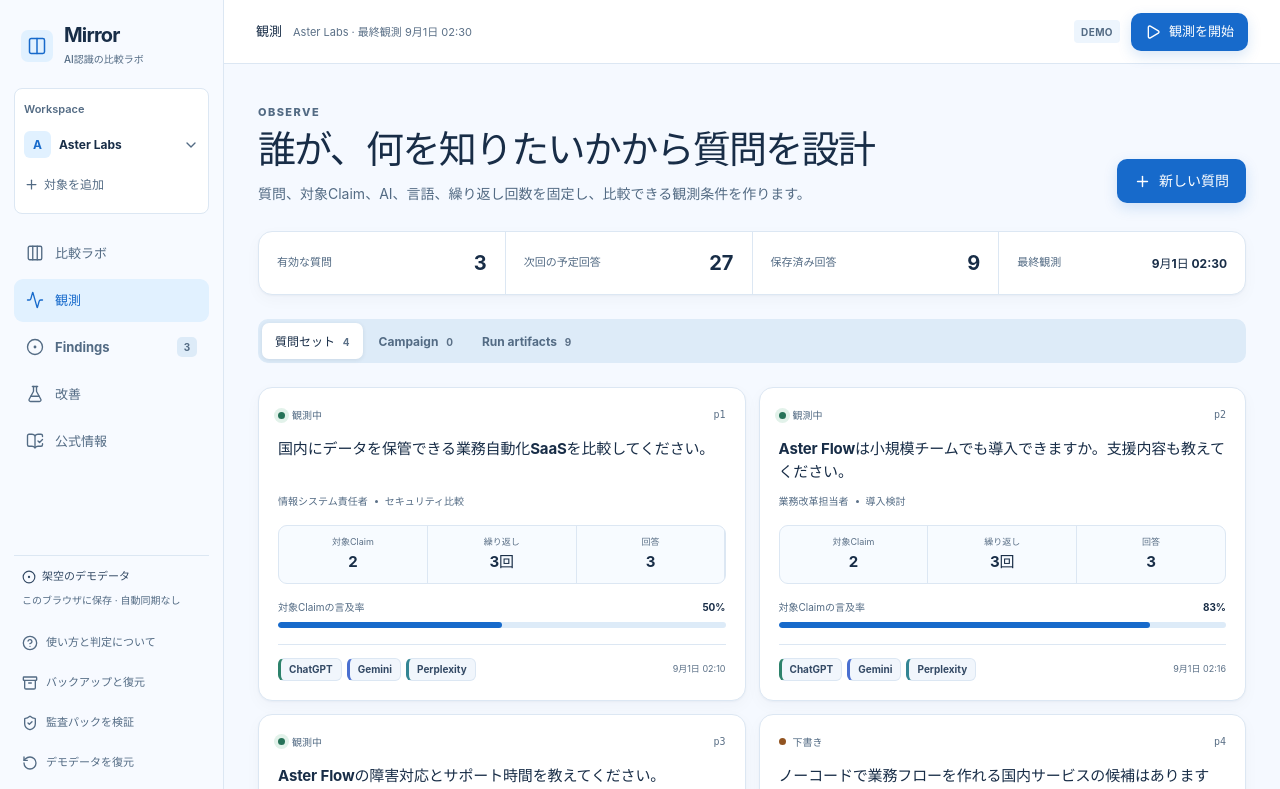
Test: Mirror application shell › separates deterministic campaigns from manually imported answers
The image size is (1280, 789).
Step 1. Click the button "観測を開始" → (1190, 32), box [1131,12,1248,50]
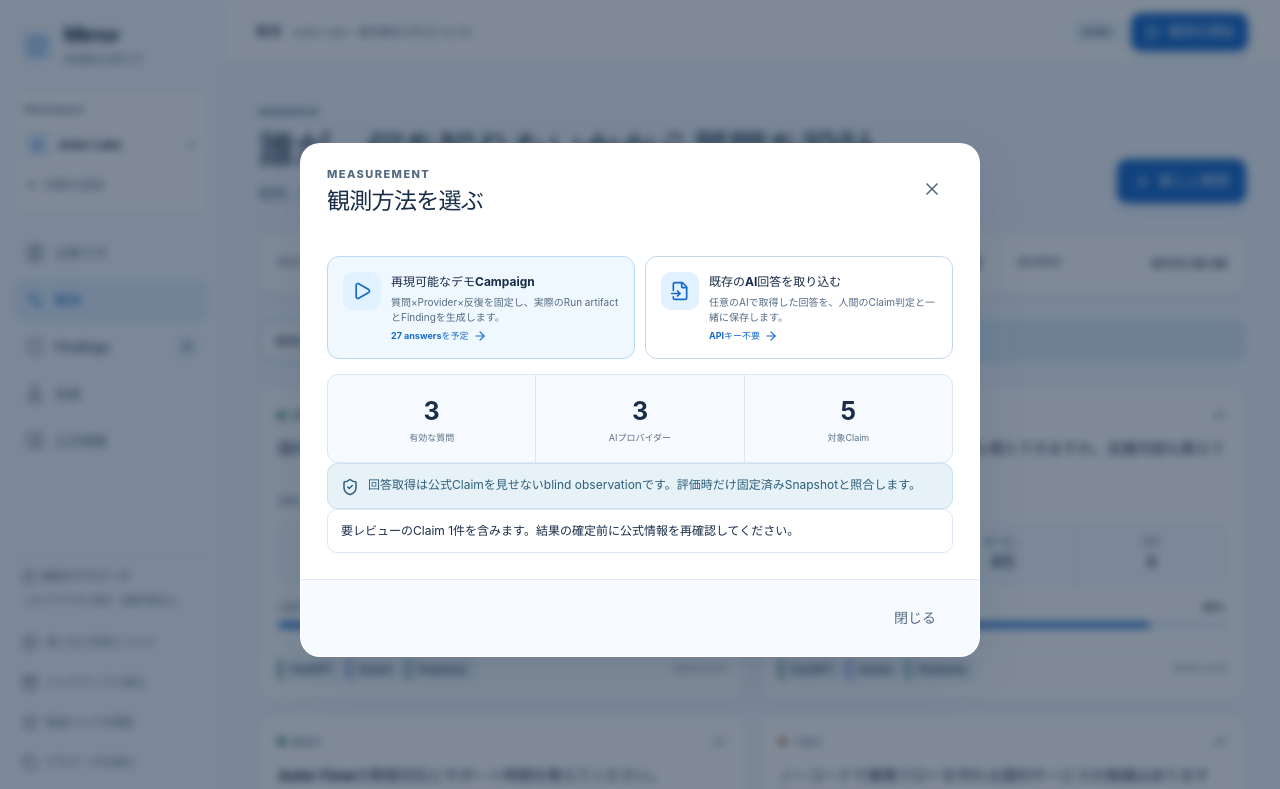
Check: the heading "観測方法を選ぶ" is shown, box [327,187,483,216]
Check: the button "再現可能なデモCampaign" is shown, box [327,256,635,359]
Check: the button "既存のAI回答を取り込む 任意のAIで取得した回答を、人間のClaim判定と一緒に保存します。 APIキー不要" is shown
Step 2. Click the button "既存のAI回答を取り込む 任意のAIで取得した回答を、人間のClaim判定と一緒に保存します。 APIキー不要" → (799, 308), box [645,256,953,359]
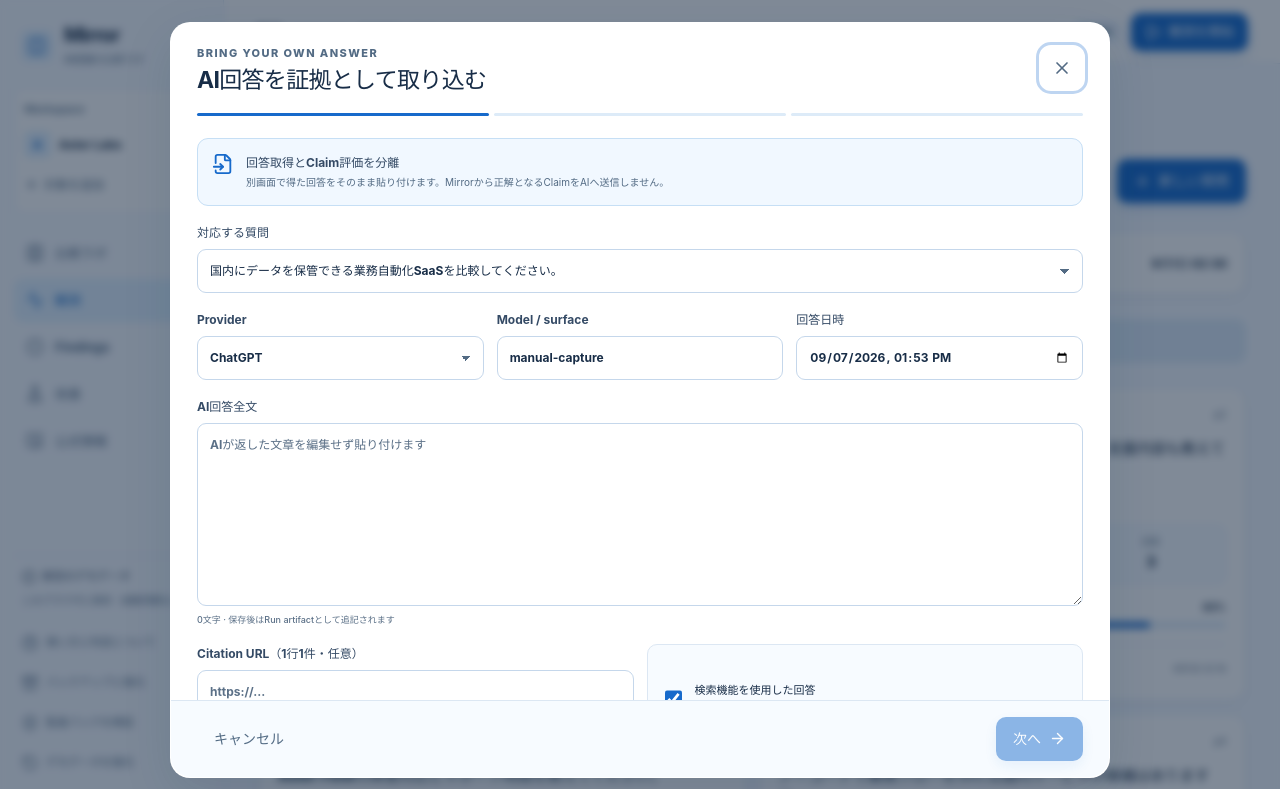
Check: the heading "AI回答を証拠として取り込む" is shown, box [197,66,486,95]
